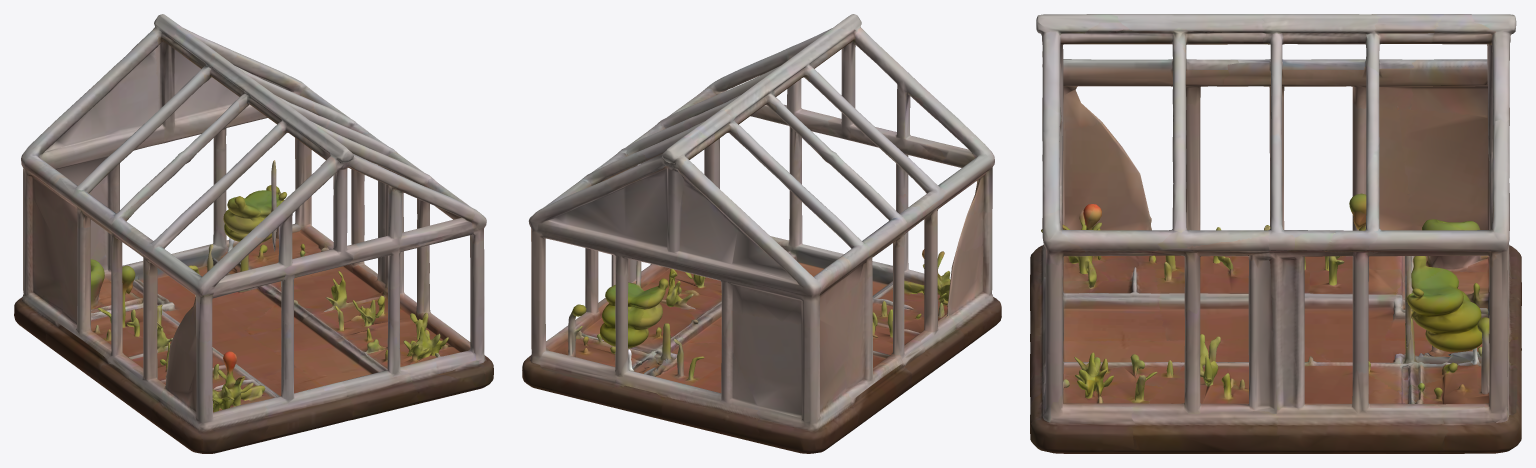
The model's file is greenhouse.glb.
The picture shows the model from 3 angles, left to right: view 1: azimuth 30°, elevation 25°; view 2: azimuth 150°, elevation 25°; view 3: azimuth 270°, elevation 25°; orthographic projection. The views are drawn at different scales.
Visible parts, largest first — view 1: tripo_node_c0e01074-4395-41e7-b625-1cb05a4cf7e1; view 2: tripo_node_c0e01074-4395-41e7-b625-1cb05a4cf7e1; view 3: tripo_node_c0e01074-4395-41e7-b625-1cb05a4cf7e1.
Part boxes in pixels (x1=…): tripo_node_c0e01074-4395-41e7-b625-1cb05a4cf7e1: x1=14, y1=14, x2=493, y2=453; tripo_node_c0e01074-4395-41e7-b625-1cb05a4cf7e1: x1=522, y1=14, x2=1001, y2=453; tripo_node_c0e01074-4395-41e7-b625-1cb05a4cf7e1: x1=1030, y1=14, x2=1521, y2=453.
Bounding box in the file's own units: 0.8653 × 0.7448 × 0.947.
Materials: 1 (1 with a texture image).
